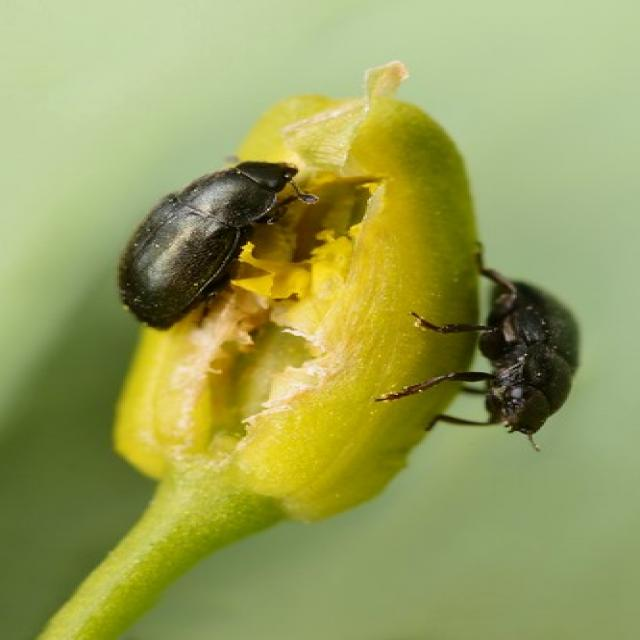pollen_beetle: (392, 240, 598, 453), (110, 147, 312, 335)
